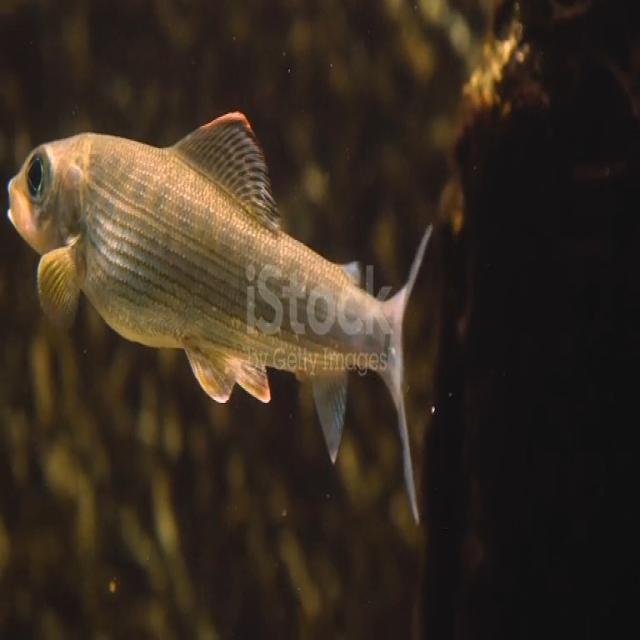fish: (5, 107, 436, 539)
